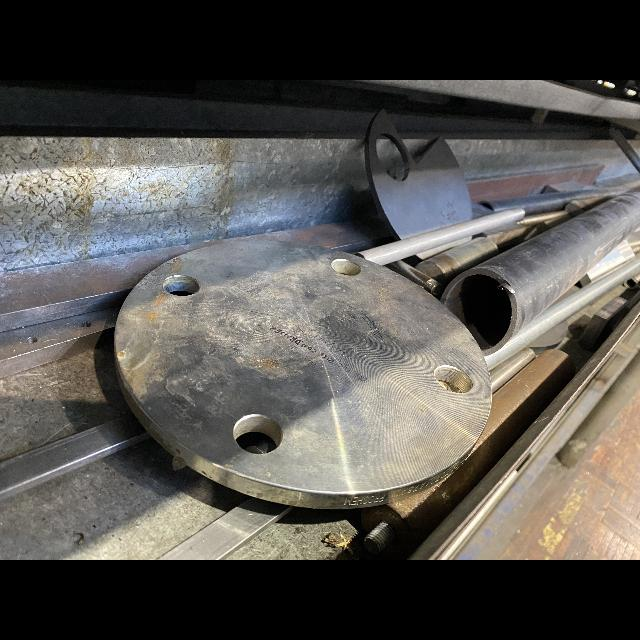Ferrous Metal: (361, 350, 575, 558), (441, 185, 640, 357), (485, 257, 640, 370), (364, 107, 473, 241), (0, 412, 150, 500), (159, 499, 293, 560), (416, 237, 498, 284), (490, 347, 536, 392)
Stainless Steel: (114, 240, 492, 509), (361, 208, 525, 265)
